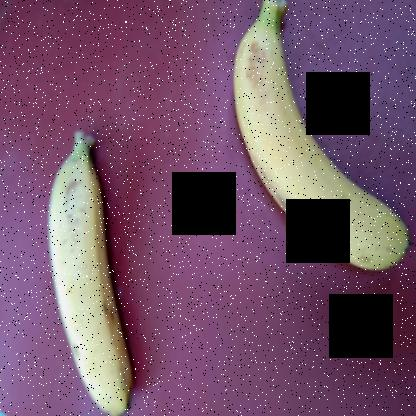freshripe: (227, 16, 413, 286), (43, 141, 139, 415)
